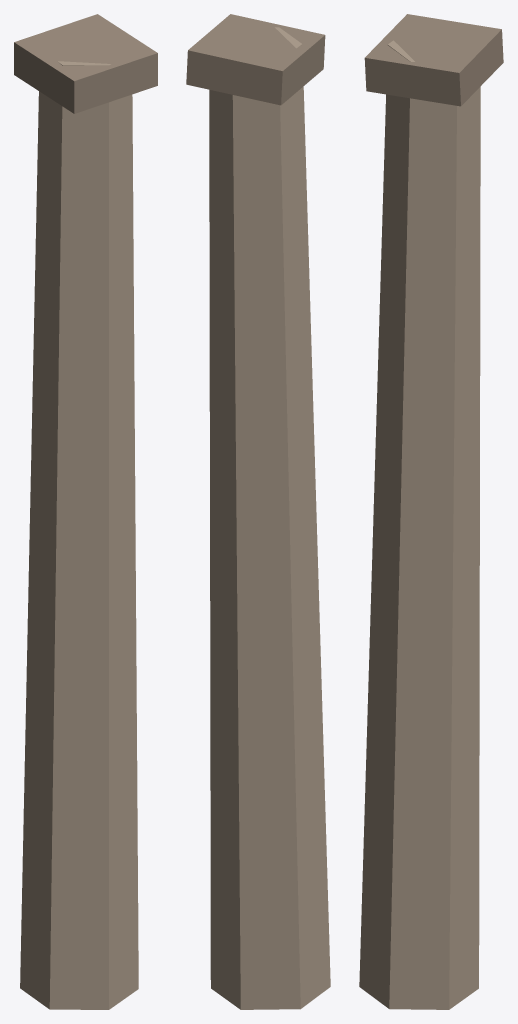
File: fence_post.glb
3 views of the same model, side by side, from view 1: azimuth 30°, elevation 25°; view 2: azimuth 150°, elevation 25°; view 3: azimuth 330°, elevation 25° (orthographic).
Visible parts, largest first — view 1: fence_post; view 2: fence_post; view 3: fence_post.
Boxes of the visible parts, x1,y1,x2,y2 form: fence_post: (14,14,157,1009); fence_post: (186,14,330,1009); fence_post: (359,14,503,1009).
Size of the model in its own units: 0.1464 by 1.26 by 0.1513.
